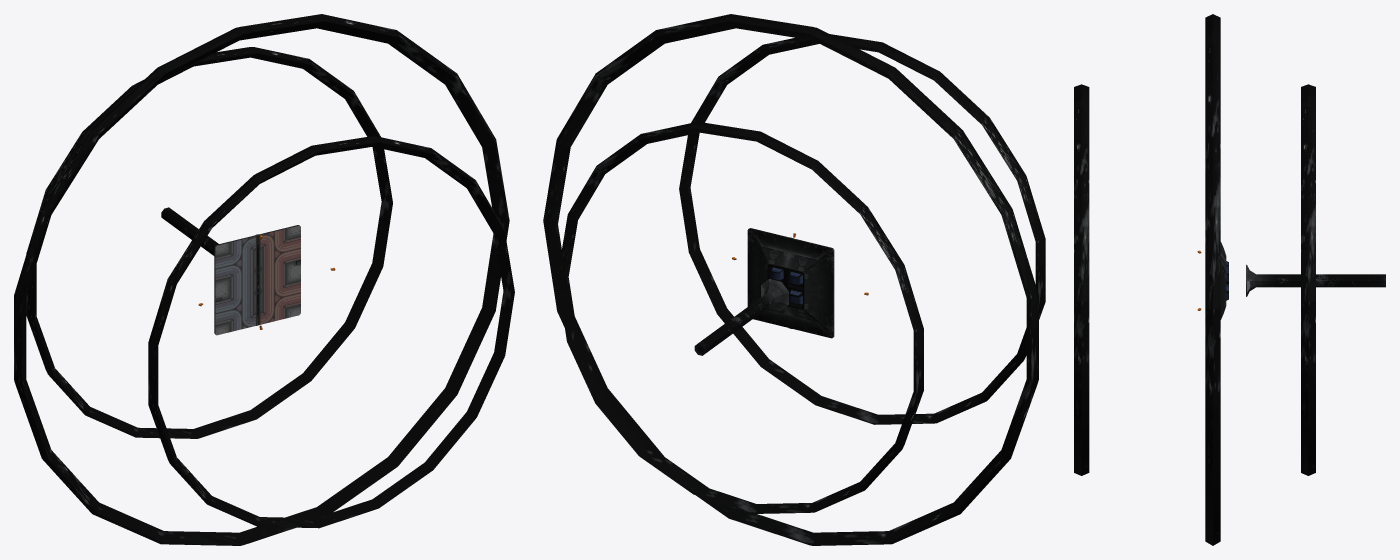
Rendered from platform.obj.
The picture shows the model from 3 angles, left to right: view 1: azimuth 30°, elevation 25°; view 2: azimuth 150°, elevation 25°; view 3: azimuth 270°, elevation 25°; orthographic projection. The views are drawn at different scales.
Visible parts, largest first — view 1: pTorus3, pTorus2, pTorus1, Platform_0009, pCube1; view 2: pTorus3, pTorus1, pTorus2, Platform_0009, pCube1; view 3: pTorus3, pTorus2, pTorus1, pCube1, Platform_0009.
Part boxes in pixels (x1=…): pTorus3: x1=14, y1=14, x2=509, y2=545; pTorus2: x1=148, y1=136, x2=514, y2=528; pTorus1: x1=26, y1=47, x2=392, y2=438; Platform_0009: x1=214, y1=225, x2=300, y2=335; pCube1: x1=161, y1=207, x2=218, y2=255; pTorus3: x1=543, y1=14, x2=1038, y2=545; pTorus1: x1=557, y1=122, x2=923, y2=513; pTorus2: x1=679, y1=34, x2=1045, y2=424; Platform_0009: x1=747, y1=228, x2=834, y2=338; pCube1: x1=694, y1=279, x2=788, y2=355; pTorus3: x1=1205, y1=14, x2=1220, y2=545; pTorus2: x1=1074, y1=84, x2=1089, y2=475; pTorus1: x1=1301, y1=84, x2=1315, y2=475; pCube1: x1=1246, y1=264, x2=1385, y2=296; Platform_0009: x1=1220, y1=242, x2=1228, y2=319.
Bounding box in the file's own units: 7030 × 7054 × 4128.
1 material, 1 textured.
